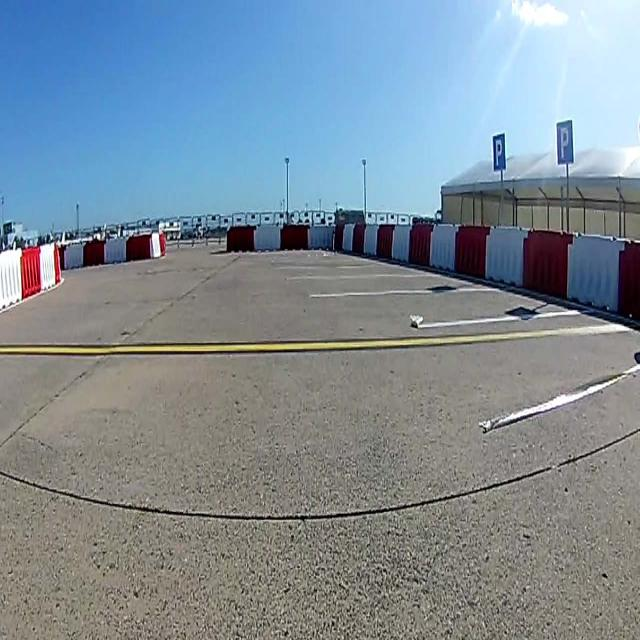park: (556, 119, 573, 165), (492, 132, 506, 172)
